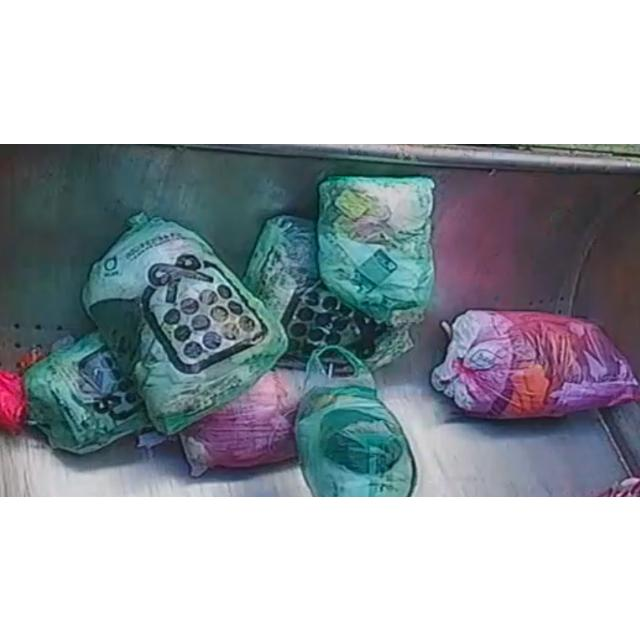general_trashbag: (82, 212, 288, 434), (244, 214, 412, 367), (296, 346, 415, 496), (318, 176, 434, 325), (24, 332, 151, 453)
other_trashbag: (431, 309, 640, 417), (180, 370, 298, 476)
